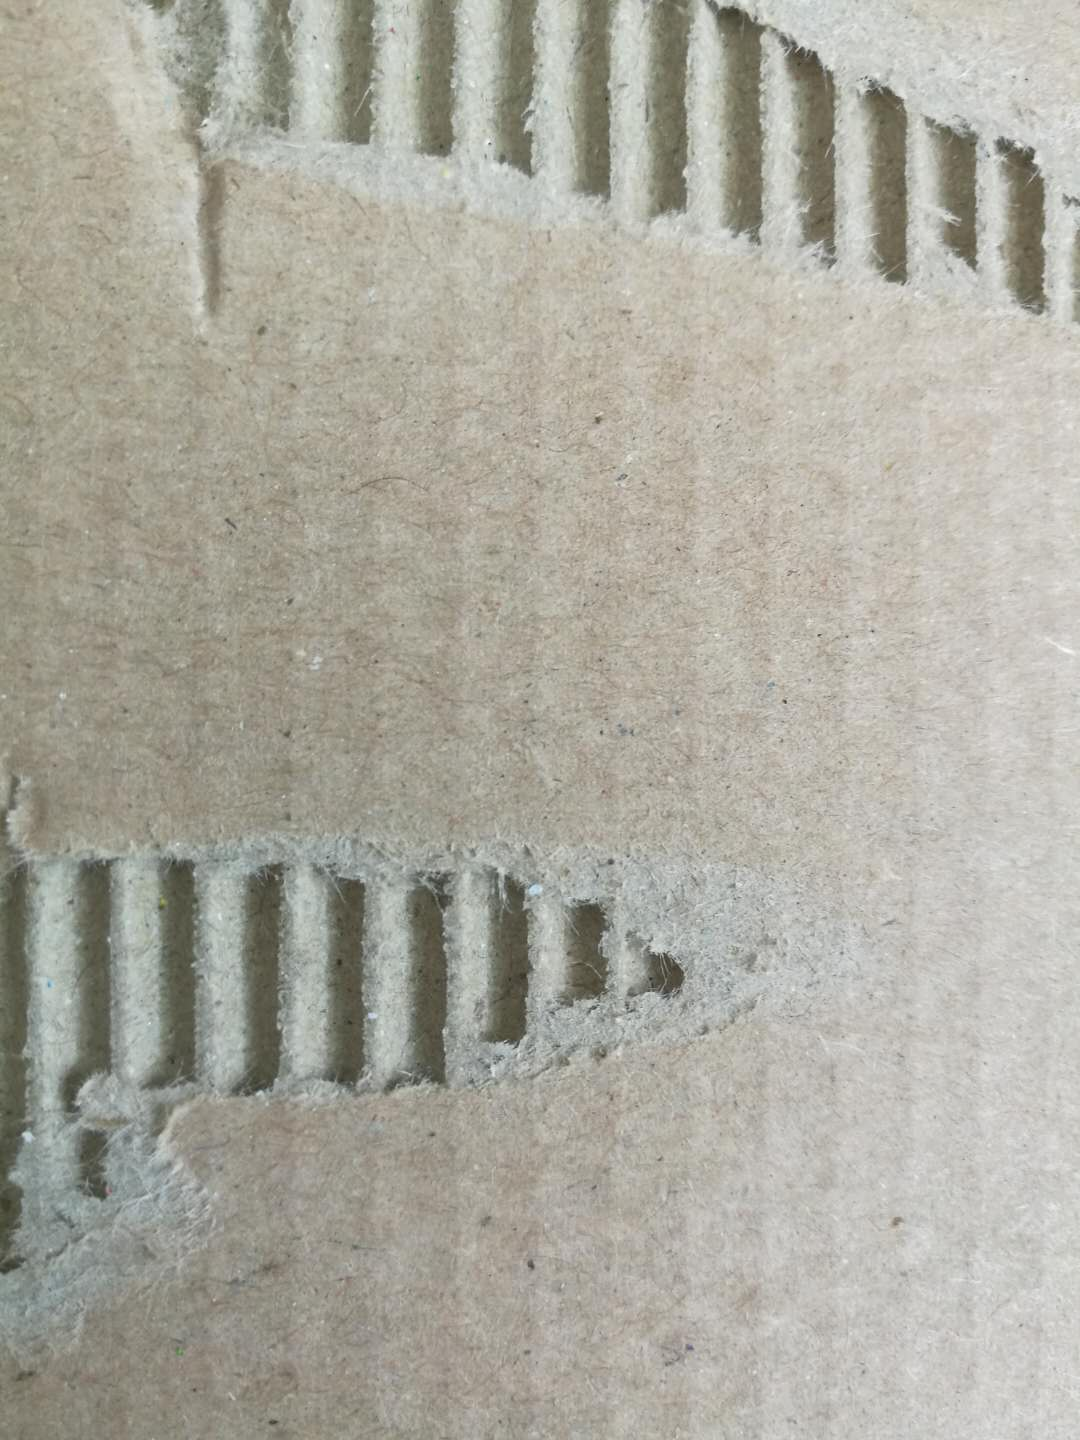defect: (1, 722, 849, 1415), (54, 1, 1080, 437)
